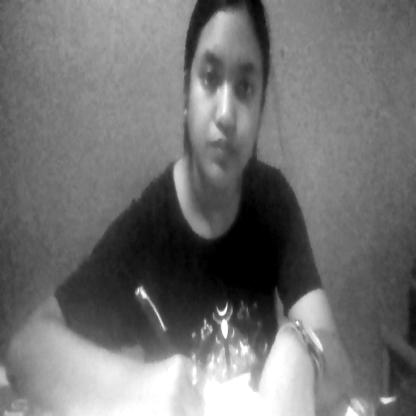Normal: (180, 6, 268, 197)
